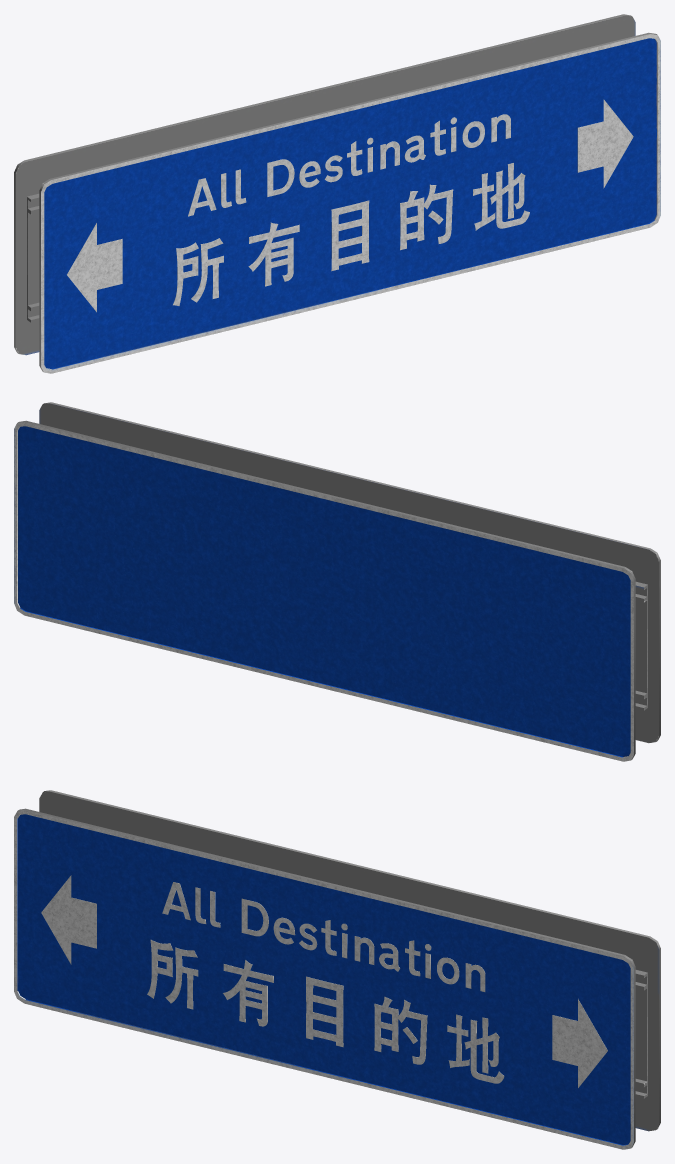
The model's file is prison-font.glb.
The picture shows the model from 3 angles, top to bottom: view 1: azimuth 30°, elevation 25°; view 2: azimuth 150°, elevation 25°; view 3: azimuth 330°, elevation 25°; orthographic projection.
Parts seen in each view (by area): view 1: RoadSign; view 2: RoadSign; view 3: RoadSign.
Part boxes in pixels (x1,y1,x2,y2): RoadSign: [14, 14, 660, 373]; RoadSign: [14, 402, 660, 761]; RoadSign: [14, 790, 660, 1149].
Bounding box in the file's own units: 1.44 × 0.431 × 0.1087.
Materials: 1 (1 with a texture image).
